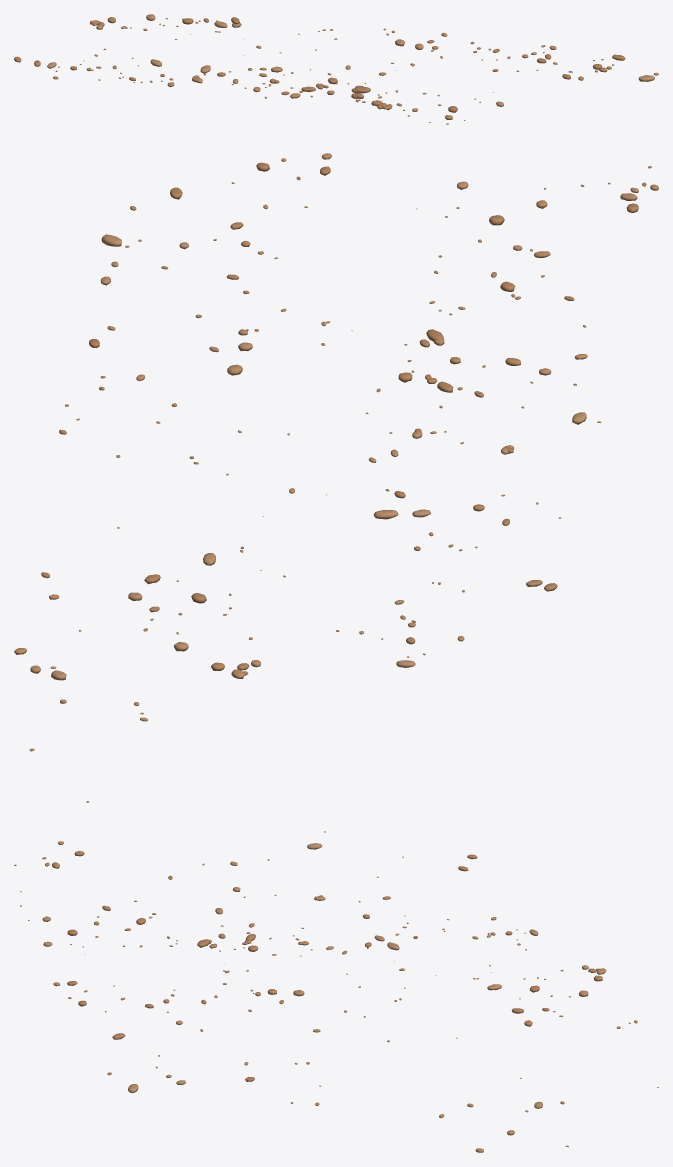
Rendered from terrain-091.glb.
3 renders of one model, top to bottom at view 1: azimuth 30°, elevation 25°; view 2: azimuth 150°, elevation 25°; view 3: azimuth 270°, elevation 25°, orthographic. The views are drawn at different scales.
Parts seen in each view (by area): view 1: terrain-091; view 2: terrain-091; view 3: terrain-091.
Boxes of the visible parts, <box> form: terrain-091: <box>14,14,658,124</box>; terrain-091: <box>14,153,658,802</box>; terrain-091: <box>14,831,658,1152</box>.
Bounding box in the file's own units: 58.54 × 27.04 × 69.55.
